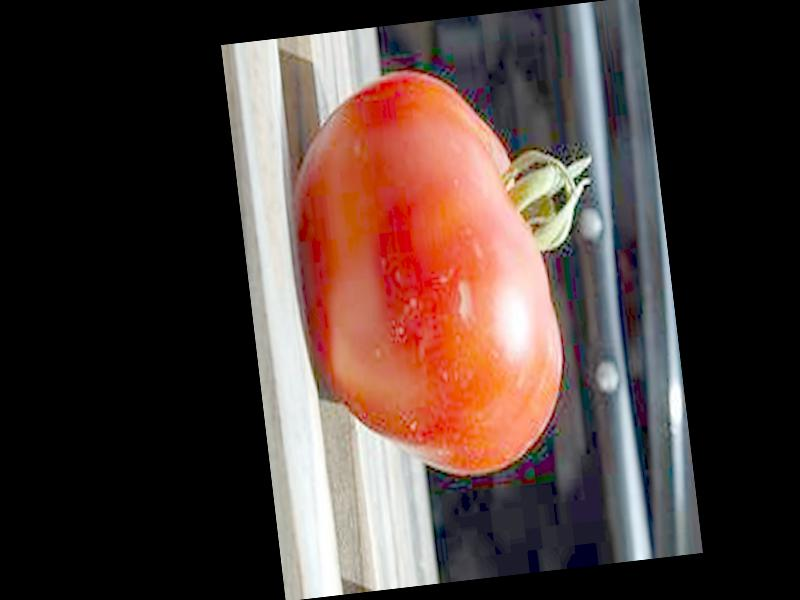Tomato: (283, 53, 623, 489)
